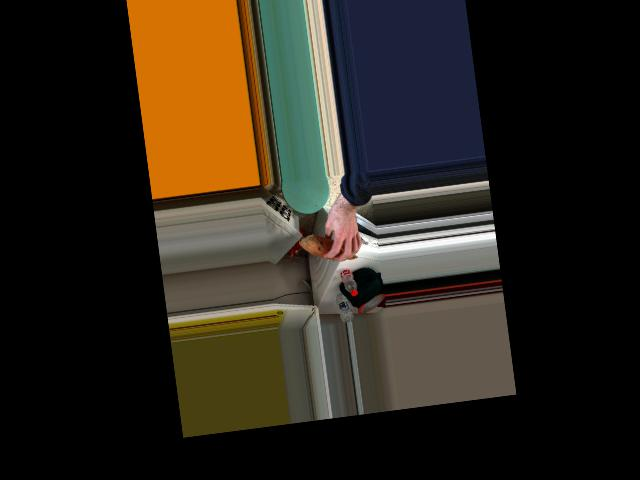sweet_potato: (304, 233, 359, 264)
